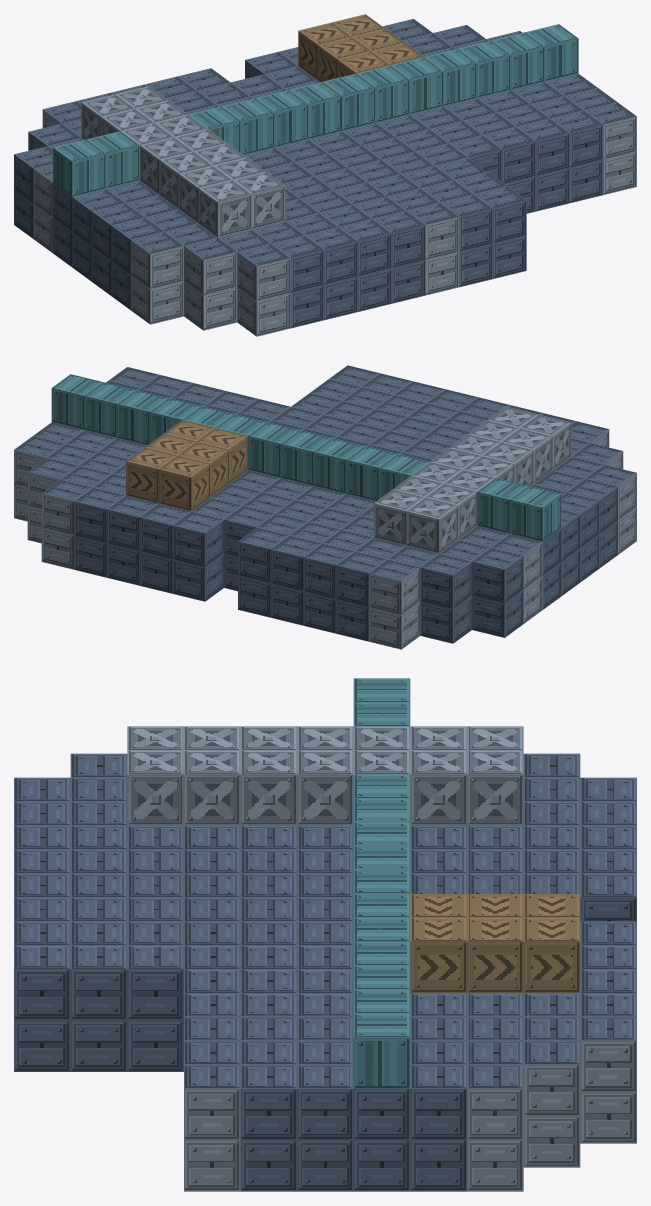
The model's file is hull_fragment.glb.
3 views of the same model, one above another, from view 1: azimuth 30°, elevation 25°; view 2: azimuth 150°, elevation 25°; view 3: azimuth 270°, elevation 25° (orthographic). The views are drawn at different scales.
Visible parts, largest first — view 1: VF_hull_fragment_Body.002; view 2: VF_hull_fragment_Body.002; view 3: VF_hull_fragment_Body.002.
Part boxes in pixels (x1,y1,x2,y2): VF_hull_fragment_Body.002: (14, 14, 636, 336); VF_hull_fragment_Body.002: (14, 365, 636, 649); VF_hull_fragment_Body.002: (14, 678, 636, 1191).
Size of the model in its own units: 4.2 by 0.84 by 3.08.
Materials: 4 (4 with a texture image).
